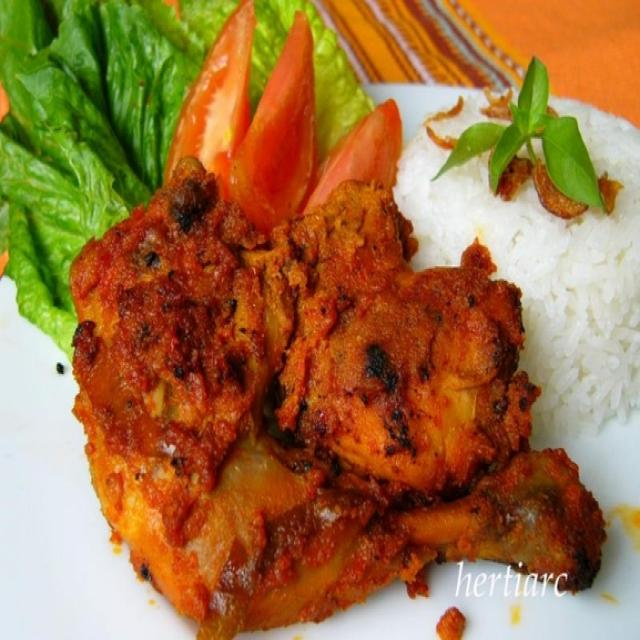鸡肉料理 含炸鸡: (61, 77, 606, 625)
